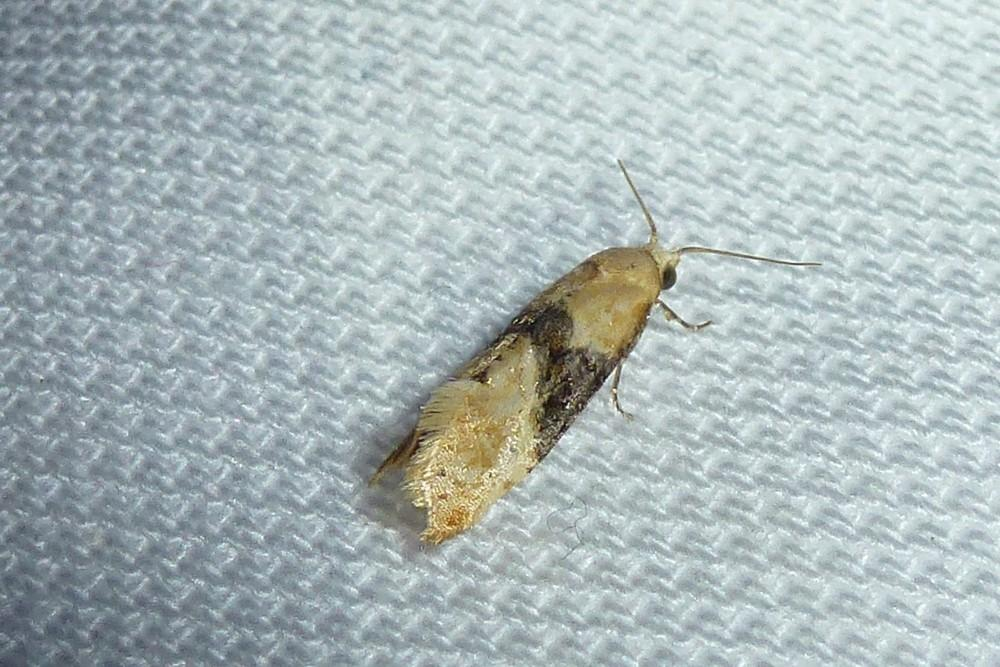Eupoecilia Ambiguella: (363, 154, 824, 552)
